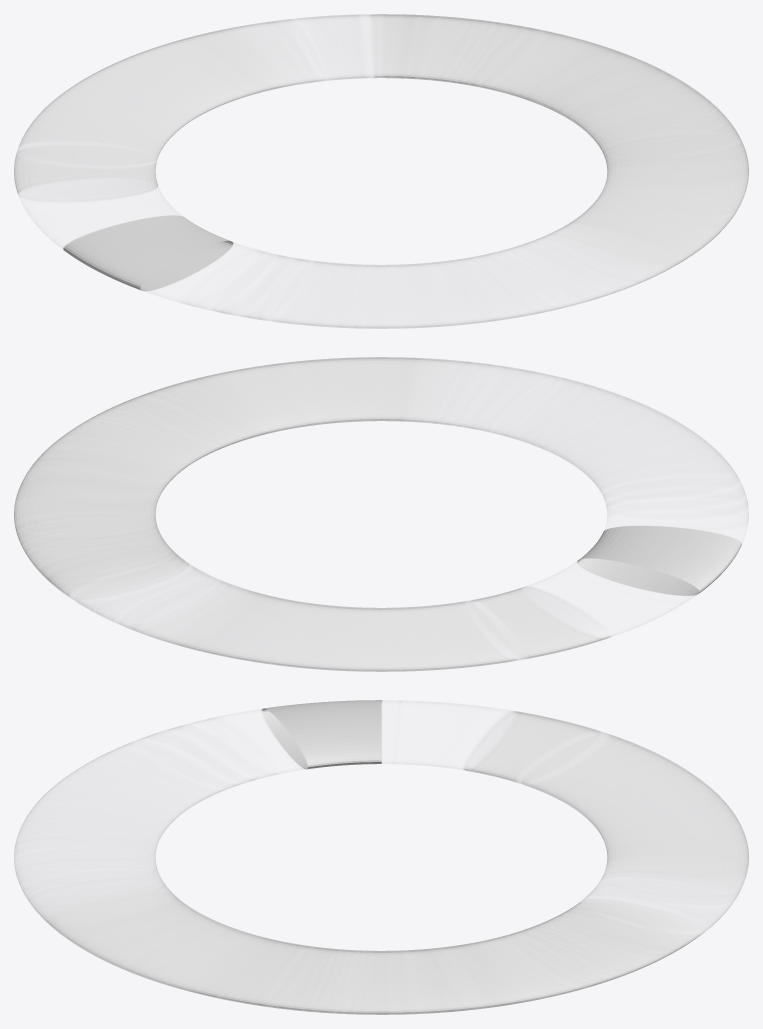
Rendered from SaturnRing.glb.
3 renders of one model, top to bottom at view 1: azimuth 30°, elevation 25°; view 2: azimuth 150°, elevation 25°; view 3: azimuth 270°, elevation 25°, orthographic.
Visible parts, largest first — view 1: Torus; view 2: Torus; view 3: Torus.
Part boxes in pixels (bbox=[...]): Torus: bbox=[14, 14, 748, 328]; Torus: bbox=[14, 357, 748, 671]; Torus: bbox=[14, 700, 748, 1014].
Size of the model in its own units: 2.47 by 0.0842 by 2.47.
1 material, 1 textured.
